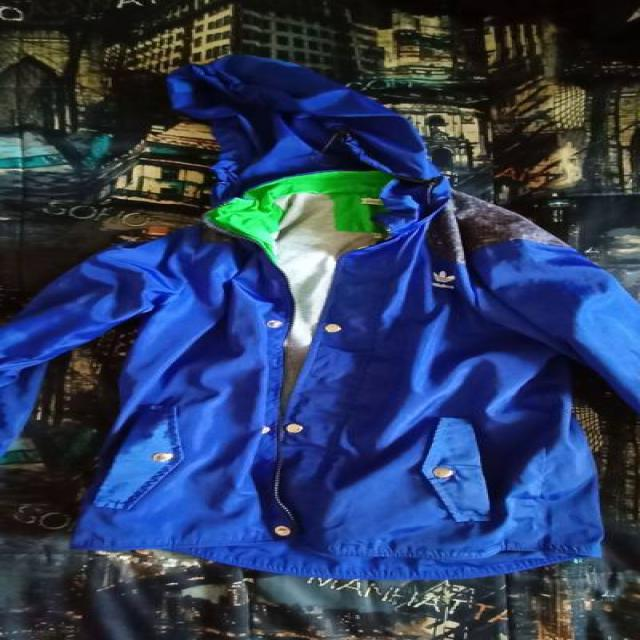inorganic: (62, 62, 616, 595)
